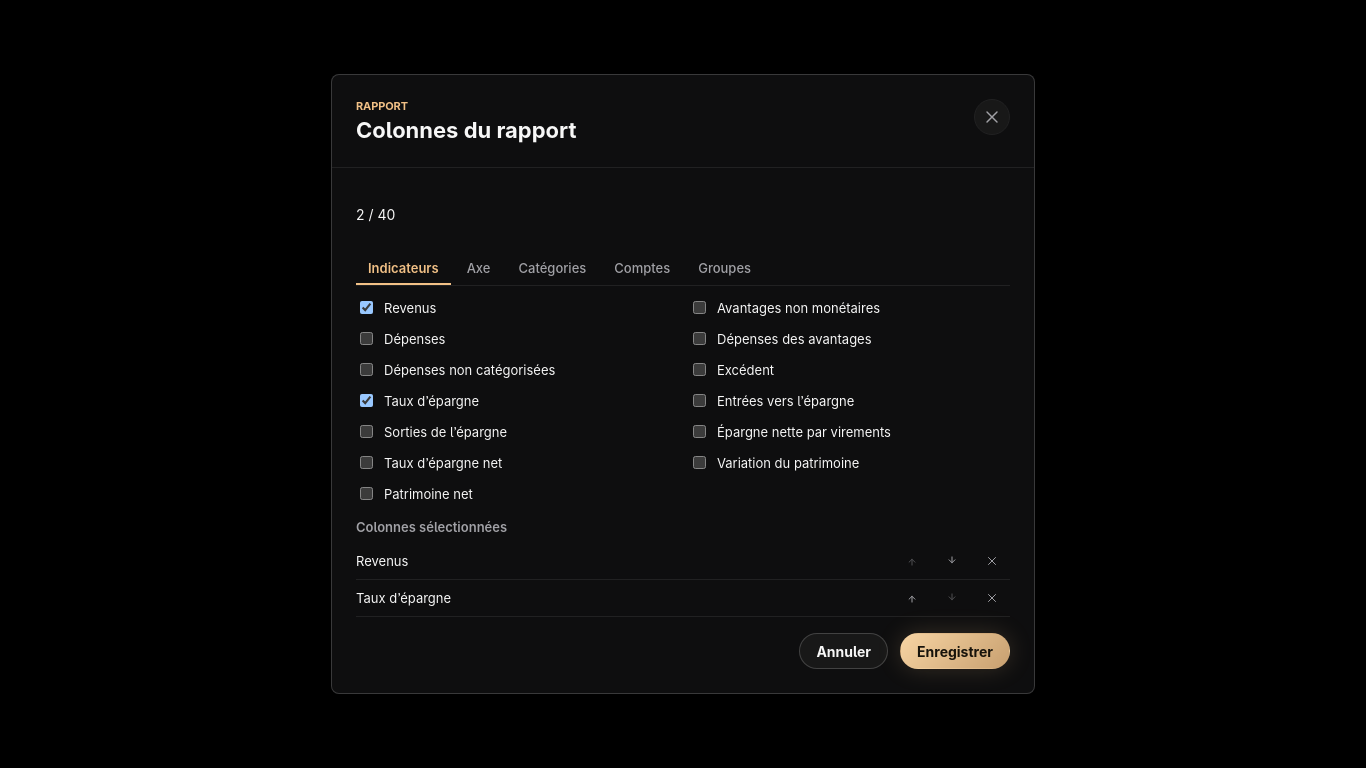
Test: ColumnPickerModal › offers a retry inside the tab when the catalogue is unavailable
Click the tab "Catégories" at {"x": 552, "y": 269}, box [506,253,598,285]
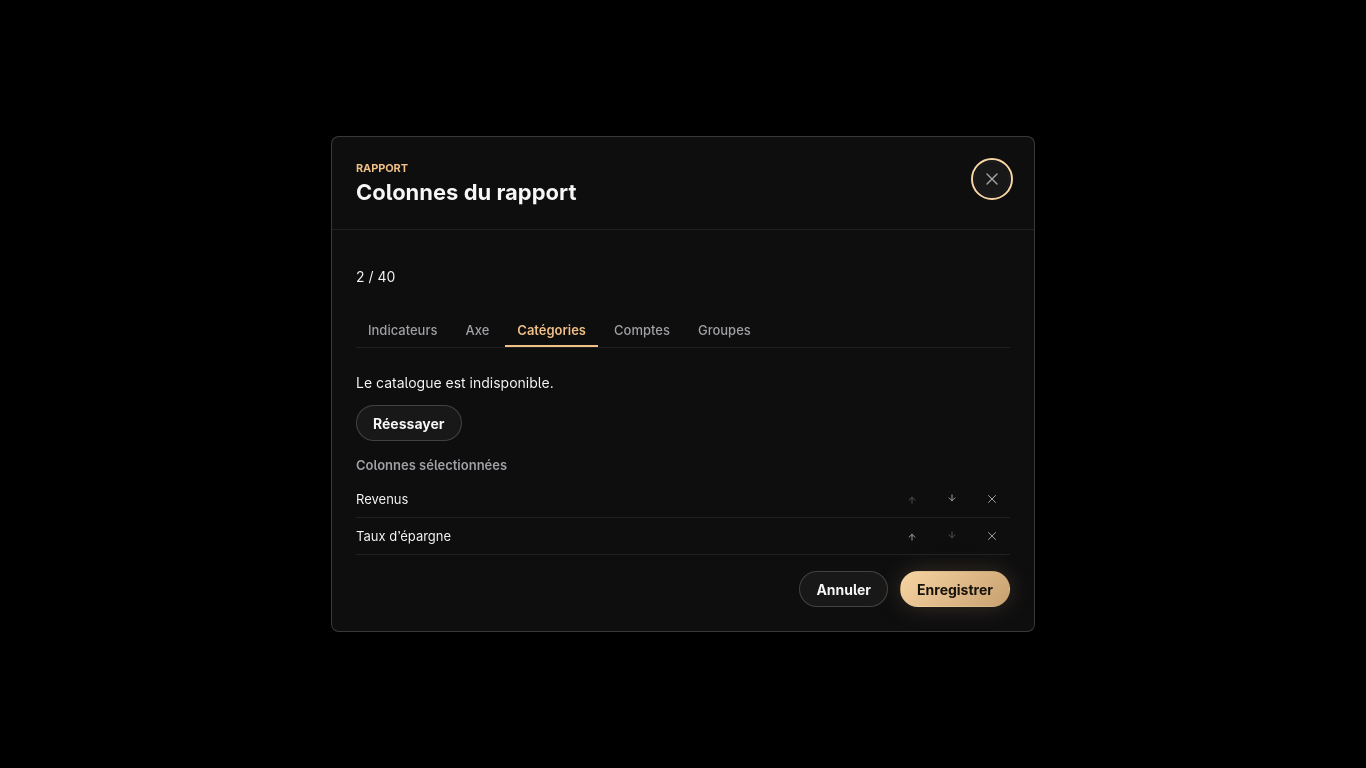
Check: the text "Le catalogue est indisponible." is shown, box [356,374,554,391]
Check: the button "Réessayer" is shown, box [356,405,462,441]
